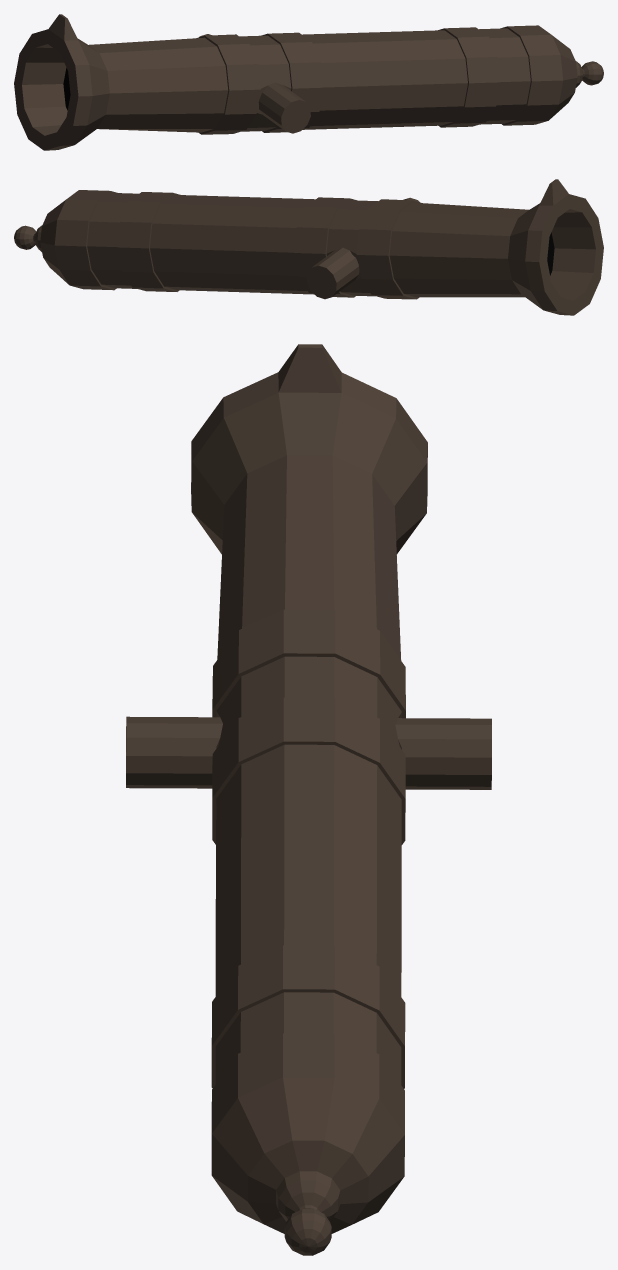
File: Cannon.fbx
3 renders of one model, top to bottom at view 1: azimuth 30°, elevation 25°; view 2: azimuth 150°, elevation 25°; view 3: azimuth 270°, elevation 25°, orthographic. The views are drawn at different scales.
Parts seen in each view (by area): view 1: Cannon; view 2: Cannon; view 3: Cannon.
Boxes of the visible parts, x1=… form: Cannon: x1=14, y1=14, x2=603, y2=150; Cannon: x1=14, y1=179, x2=603, y2=315; Cannon: x1=126, y1=344, x2=491, y2=1255.
Size of the model in its own units: 241 by 88.13 by 67.4.
